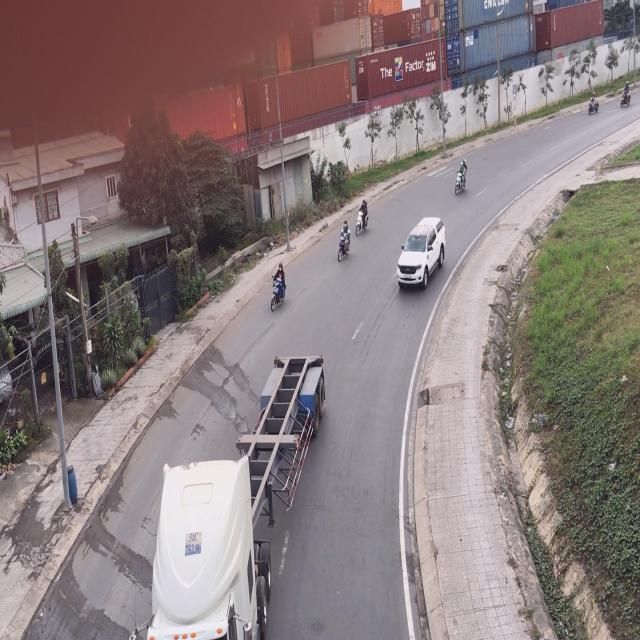car: (396, 218, 446, 294)
motorbike: (270, 262, 288, 314), (337, 220, 353, 264), (356, 195, 370, 239), (454, 158, 469, 198), (588, 80, 600, 118), (622, 77, 633, 110)
truck: (151, 350, 329, 640)
